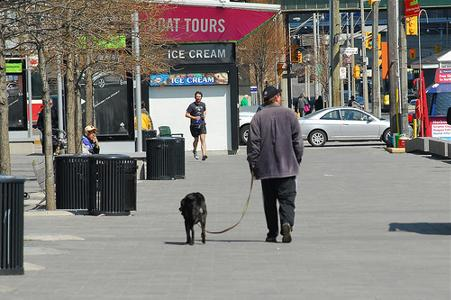person: (247, 86, 306, 242)
